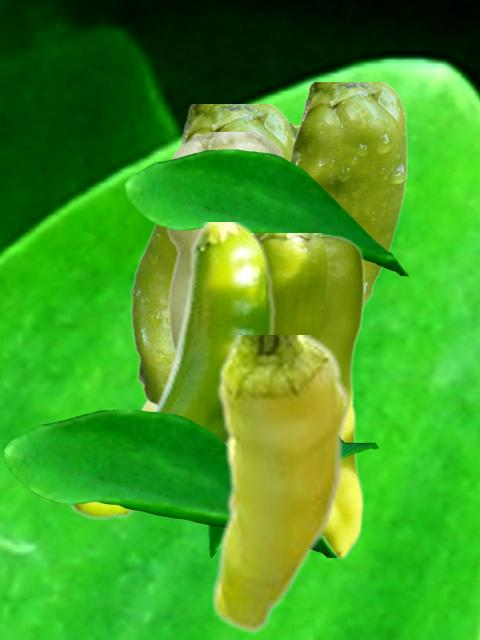green_chili: (68, 222, 275, 520), (130, 104, 295, 405), (210, 335, 350, 633), (258, 233, 363, 557), (163, 132, 287, 355), (287, 82, 406, 312)
